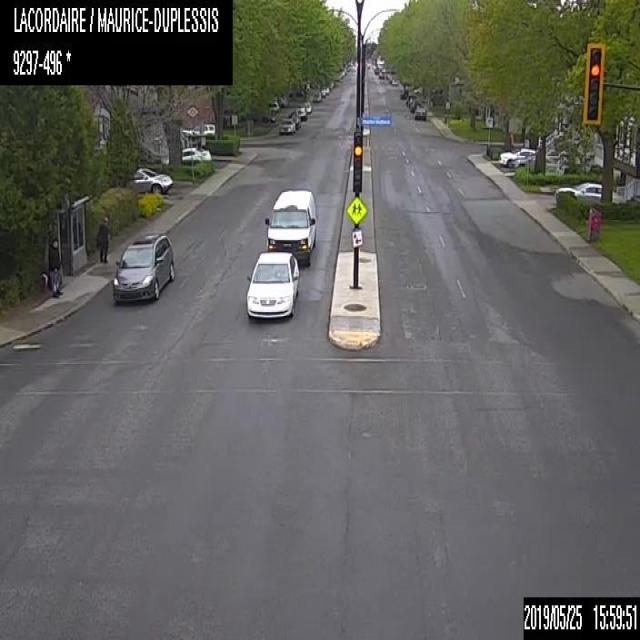pedestrian: (47, 238, 62, 298), (95, 215, 108, 261)
vehicle: (110, 230, 174, 302), (264, 191, 320, 268), (243, 253, 300, 320), (555, 179, 622, 204), (130, 167, 172, 193), (500, 143, 550, 164), (181, 146, 211, 165), (188, 121, 216, 137), (278, 117, 295, 135), (286, 110, 302, 127), (408, 99, 422, 112), (300, 100, 313, 113), (413, 107, 426, 120), (294, 106, 306, 120), (399, 82, 407, 100), (406, 94, 417, 106), (318, 85, 328, 97), (268, 100, 278, 112), (312, 90, 321, 102), (276, 96, 283, 108), (391, 73, 398, 84), (373, 66, 379, 74), (378, 72, 383, 78)
